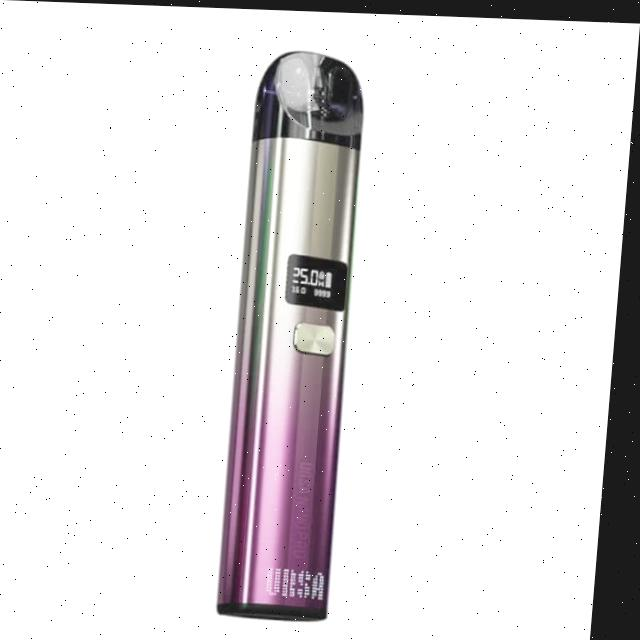vape: (221, 45, 375, 620)
